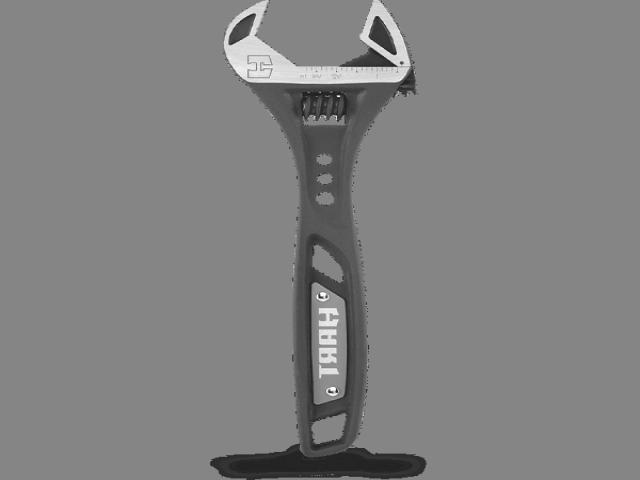Adjustable spanner: (224, 0, 416, 457)
